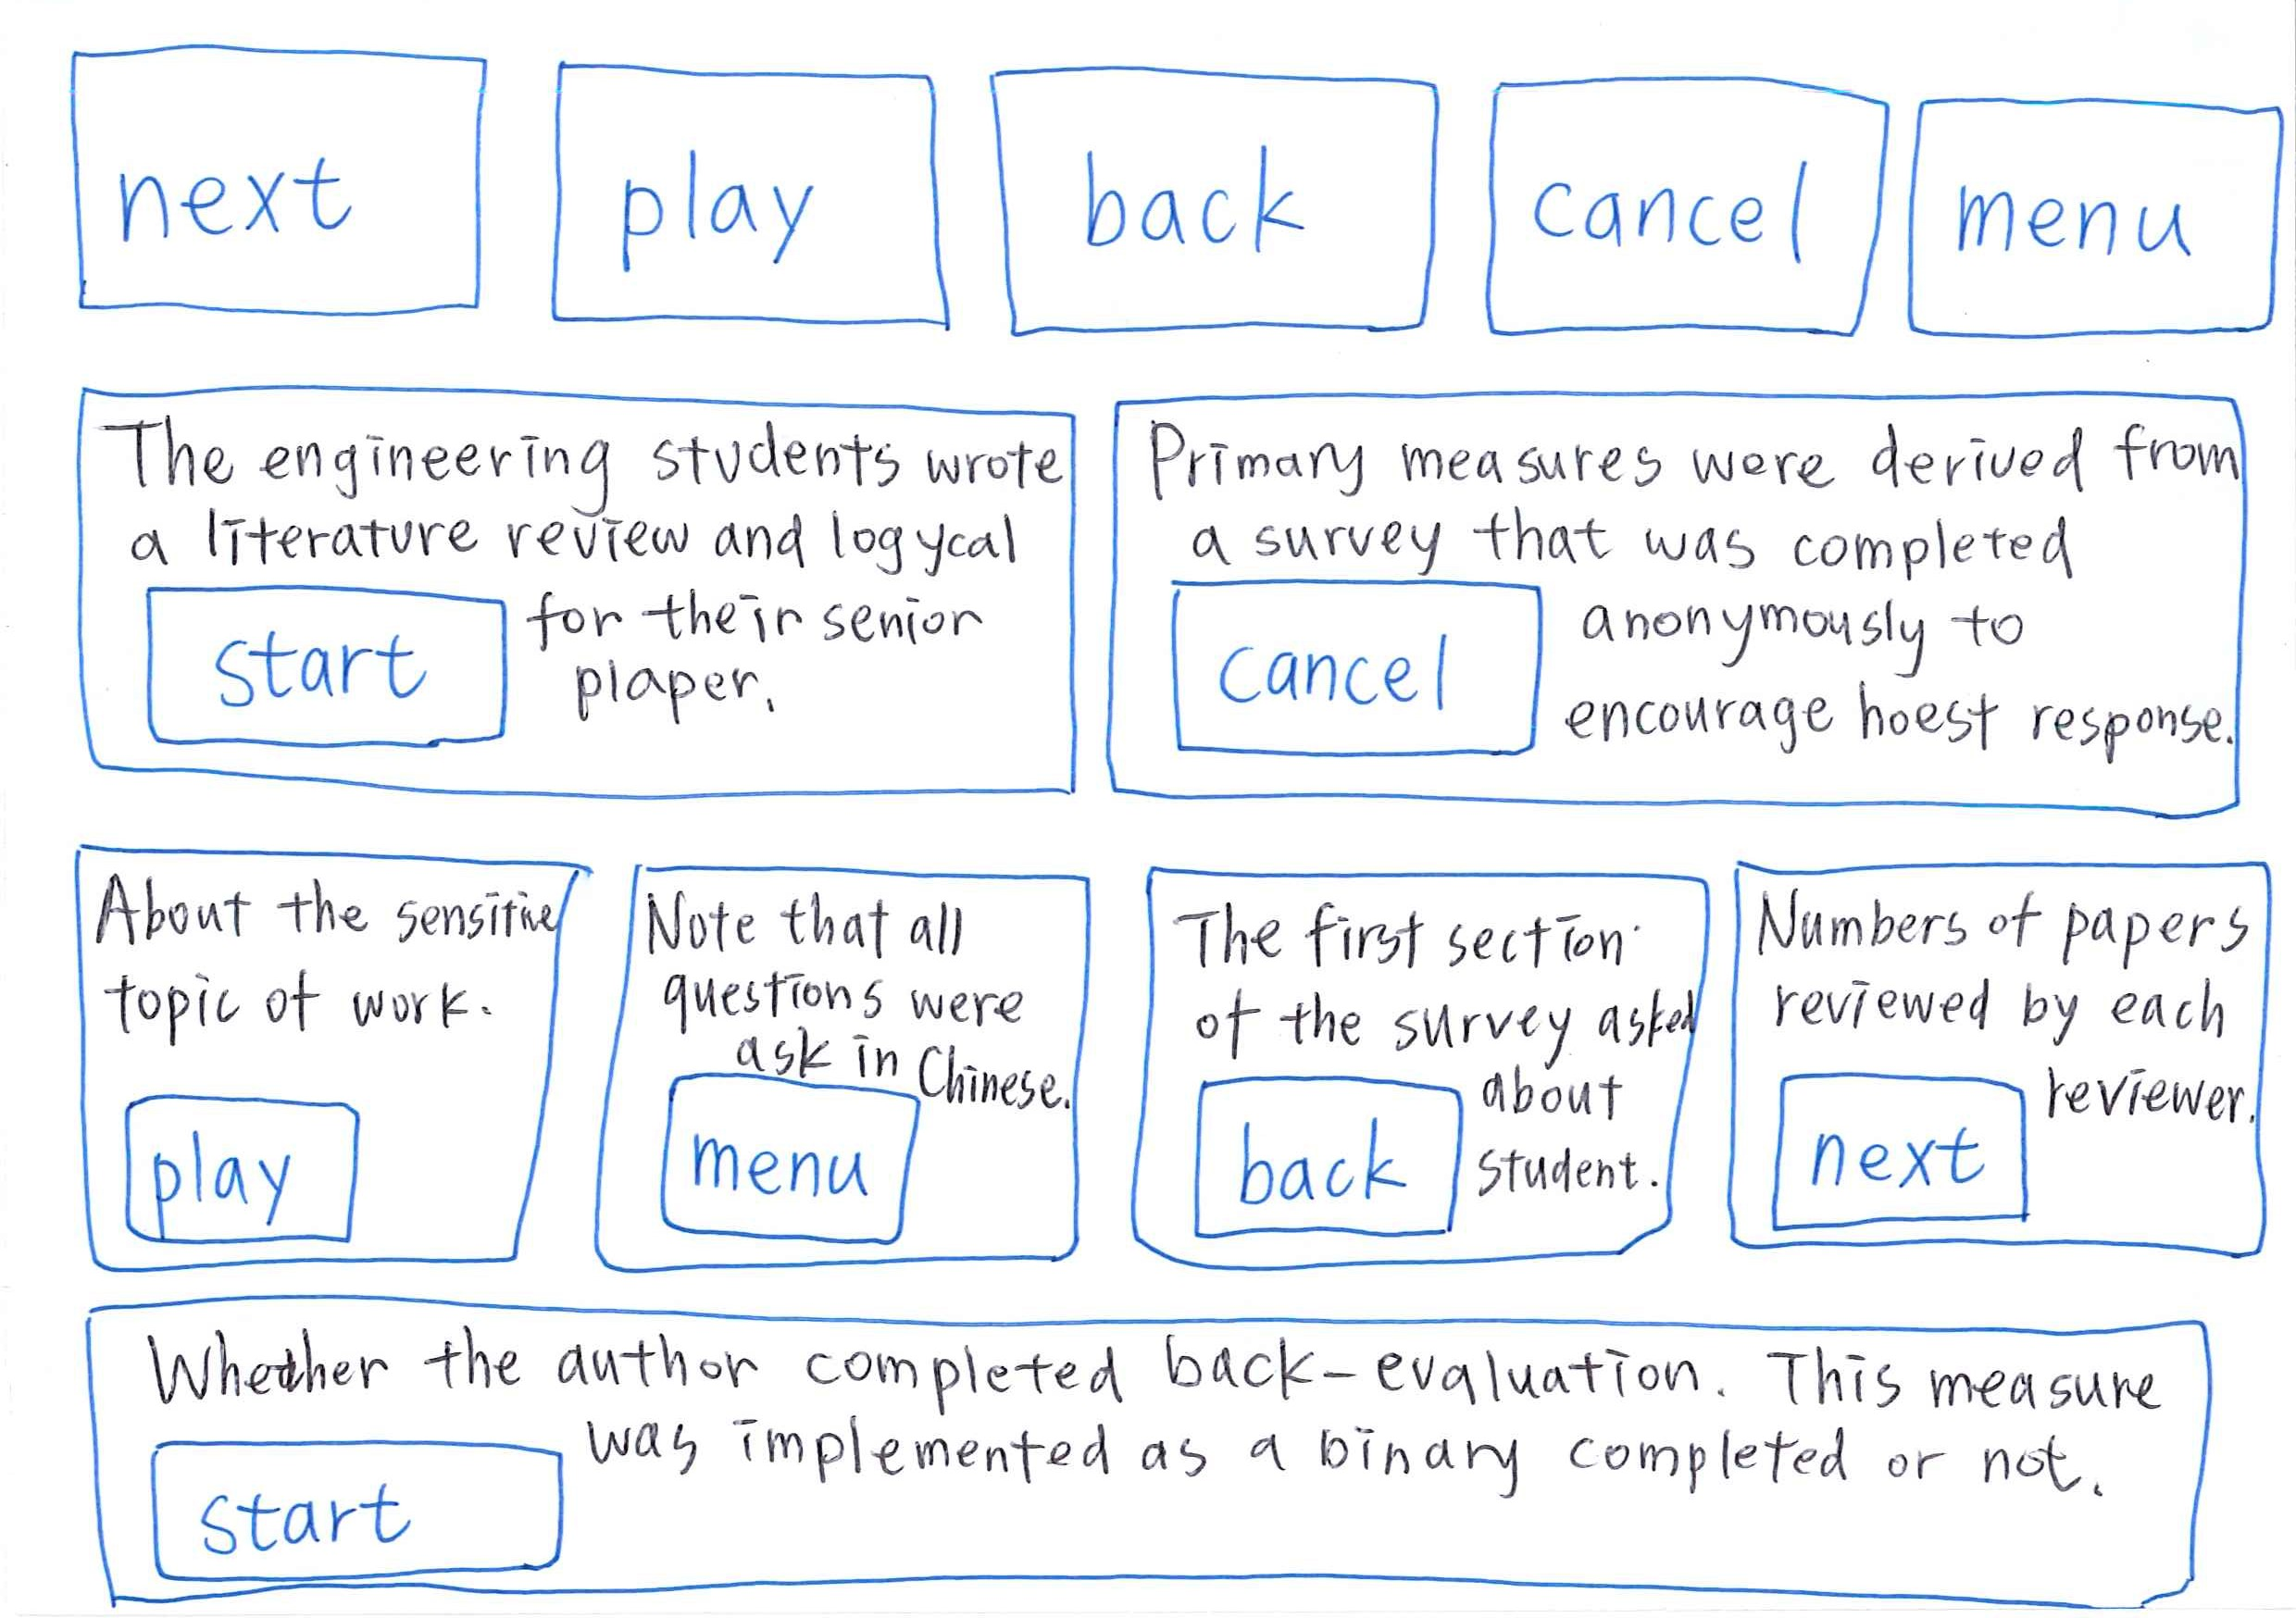back: (968, 44, 1445, 369), (1170, 1068, 1483, 1256)
cancel: (1466, 54, 1904, 364), (1156, 576, 1560, 769)
double: (1089, 376, 2296, 851), (39, 375, 1091, 828)
menu: (1902, 53, 2296, 352), (625, 1068, 963, 1261)
next: (40, 30, 515, 331), (1743, 1049, 2049, 1235)
play: (527, 39, 975, 361), (110, 1086, 398, 1250)
quadruple: (1646, 800, 2296, 1319), (1112, 832, 1734, 1310), (562, 821, 1126, 1282), (53, 828, 615, 1287)
row: (30, 357, 2296, 849), (30, 827, 2296, 1319), (25, 11, 2289, 357), (30, 1287, 2296, 1618)
single: (47, 1282, 2252, 1609)
start: (117, 560, 534, 769), (123, 1420, 576, 1581)
text: (602, 1396, 2180, 1509), (1152, 419, 2212, 573), (1567, 529, 2222, 765), (116, 408, 1074, 569), (140, 1343, 2158, 1417), (543, 538, 1021, 735), (88, 865, 538, 1063), (1170, 893, 1653, 1061), (1751, 895, 2238, 1047), (660, 884, 1023, 1072), (2084, 1005, 2242, 1166)
